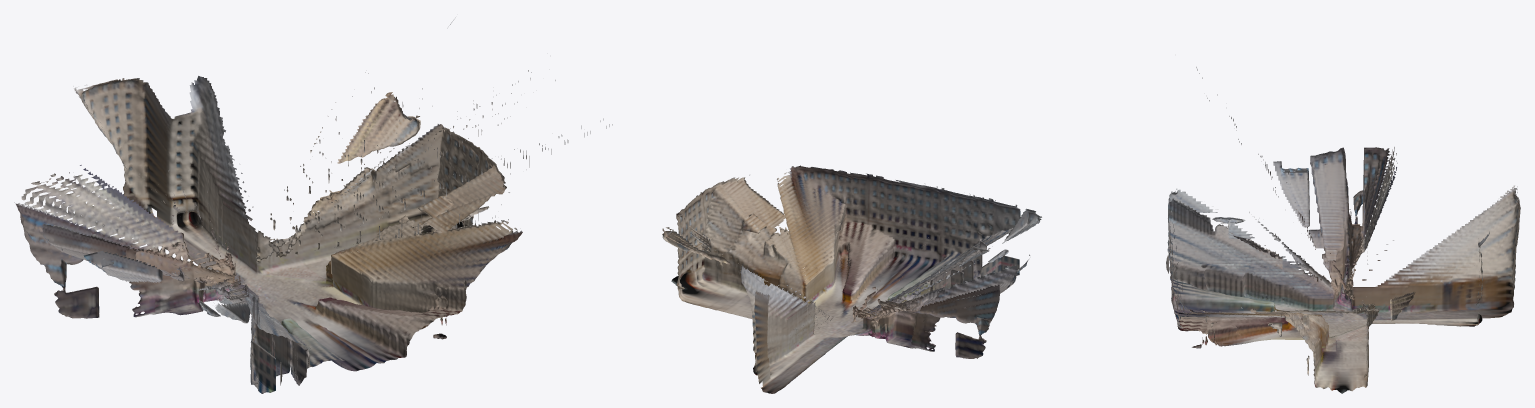
The model's file is landfill-collider.glb.
The picture shows the model from 3 angles, left to right: view 1: azimuth 30°, elevation 25°; view 2: azimuth 150°, elevation 25°; view 3: azimuth 270°, elevation 25°; orthographic projection. The views are drawn at different scales.
Visible parts, largest first — view 1: world; view 2: world; view 3: world.
Boxes of the visible parts, x1,y1,x2,y2 form: world: (14, 17, 612, 393); world: (662, 165, 1041, 393); world: (1166, 67, 1520, 393).
Bounding box in the file's own units: 91.64 × 54.49 × 84.58.
